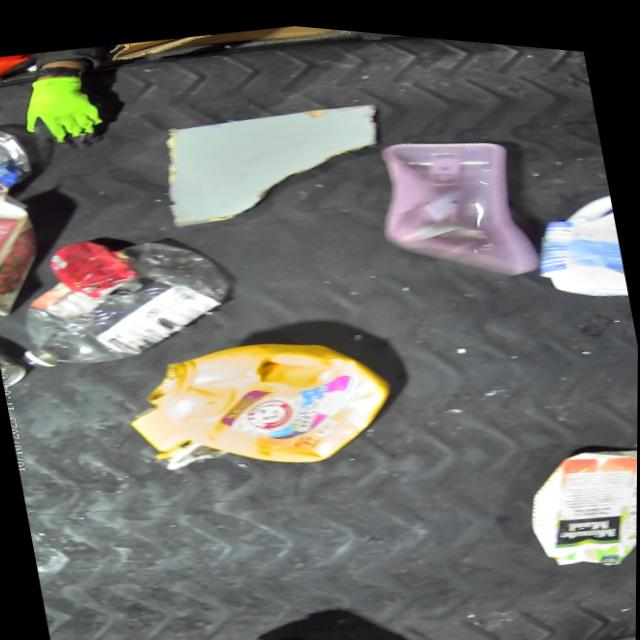can: (44, 227, 146, 316)
milk_jug: (520, 422, 638, 571)
non_white_jug: (119, 309, 390, 498), (363, 107, 532, 282)
plastic_bottle: (3, 212, 247, 389), (0, 119, 40, 208)
